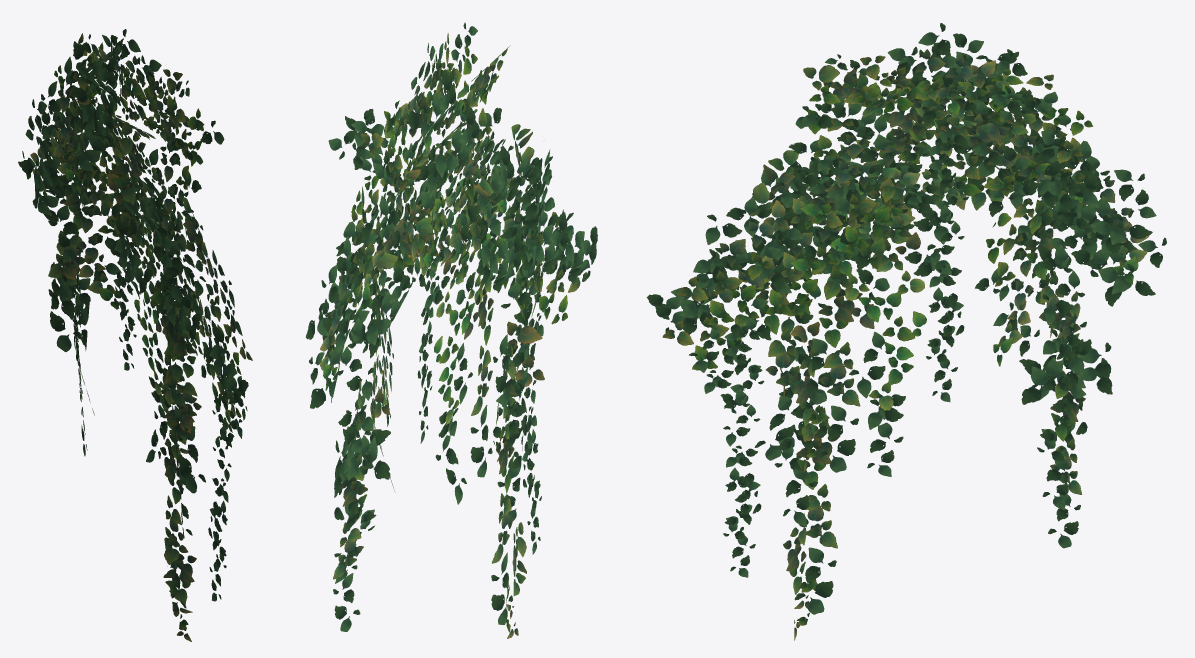
The model's file is SM_Ivy_Side_C_FlowersColored.fbx.
3 views of the same model, side by side, from view 1: azimuth 30°, elevation 25°; view 2: azimuth 150°, elevation 25°; view 3: azimuth 270°, elevation 25° (orthographic). The views are drawn at different scales.
Parts seen in each view (by area): view 1: SM_Ivy_Side_C_FlowersColored_LOD1; view 2: SM_Ivy_Side_C_FlowersColored_LOD1; view 3: SM_Ivy_Side_C_FlowersColored_LOD1.
Part boxes in pixels (x1=…): SM_Ivy_Side_C_FlowersColored_LOD1: x1=18, y1=29, x2=252, y2=641; SM_Ivy_Side_C_FlowersColored_LOD1: x1=306, y1=22, x2=597, y2=638; SM_Ivy_Side_C_FlowersColored_LOD1: x1=646, y1=23, x2=1166, y2=640.
Size of the model in its own units: 90.08 by 568 by 448.
